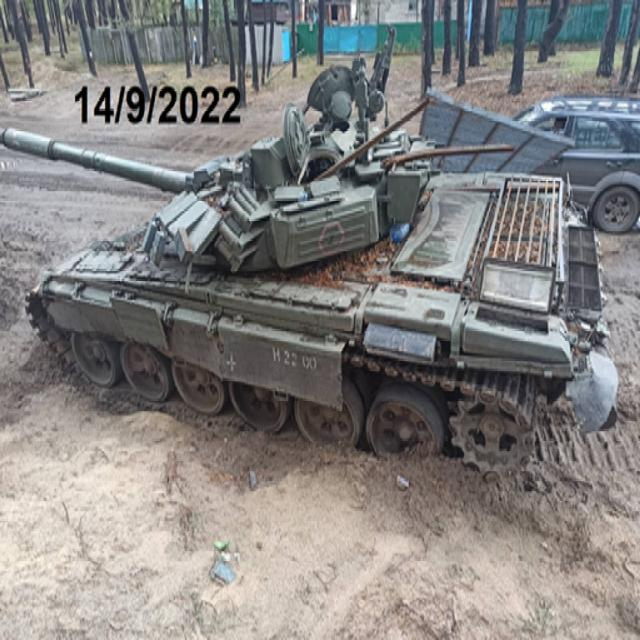CAR: (474, 80, 638, 231)
TANK: (2, 62, 624, 569)
